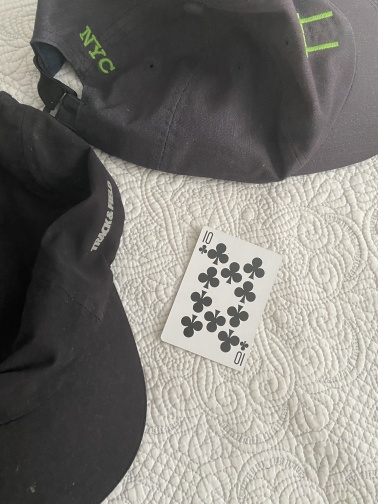ten: (160, 226, 284, 372)
